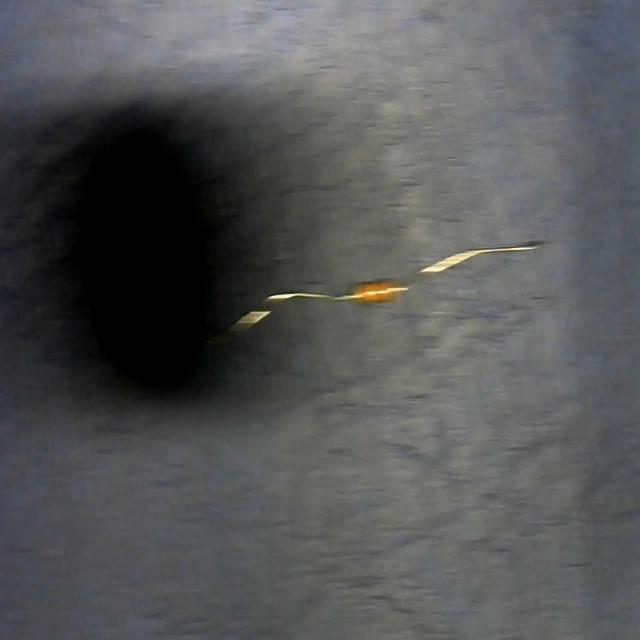resistor: (230, 233, 546, 324)
